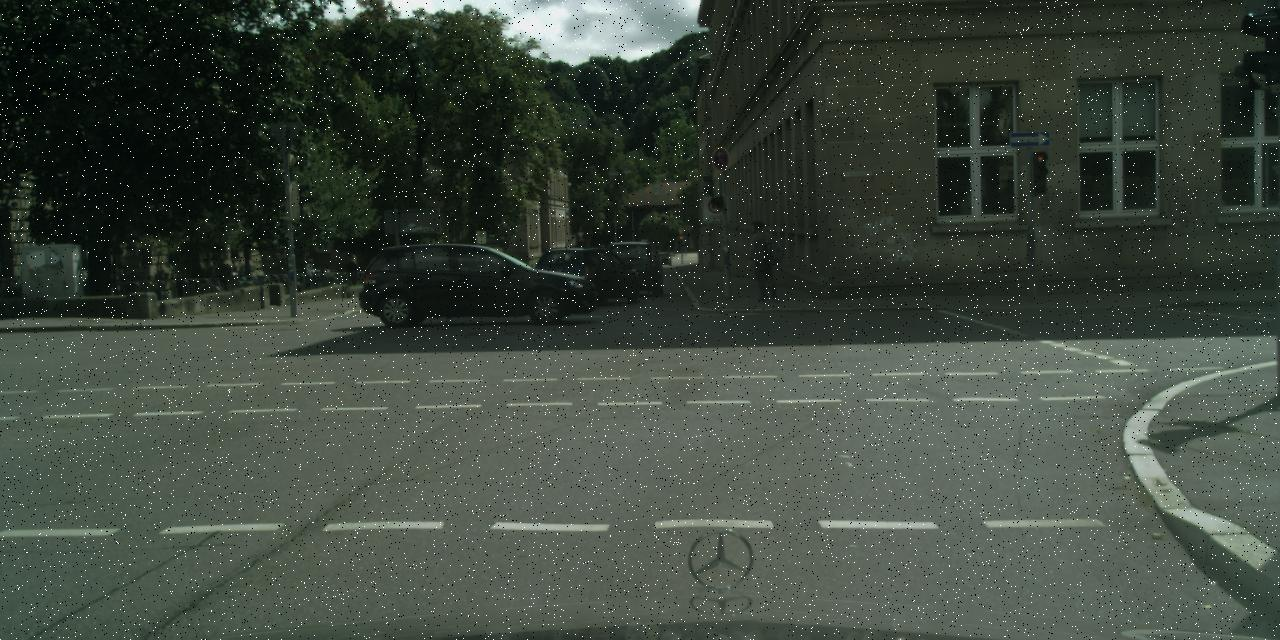ped: (746, 222, 777, 296), (345, 254, 360, 292)
